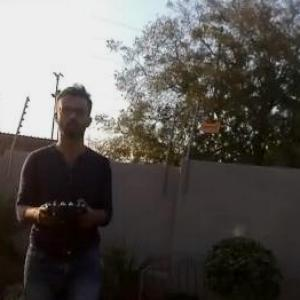follow: (11, 77, 117, 299)
